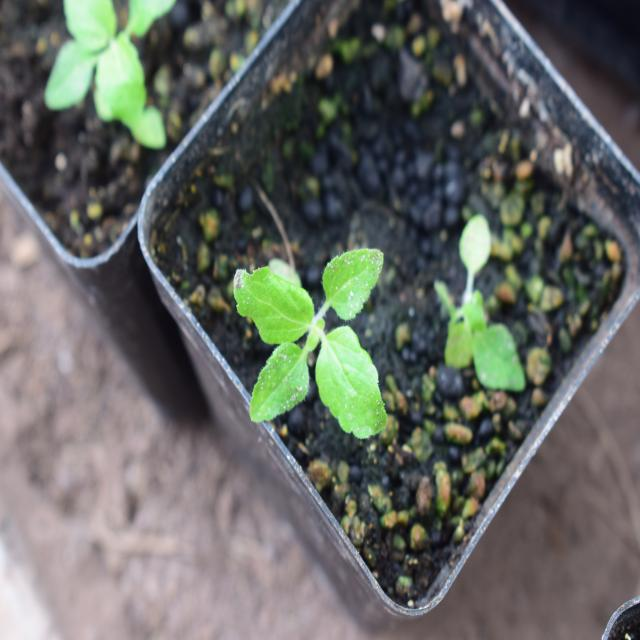billygoat_weed: (235, 227, 401, 462)
